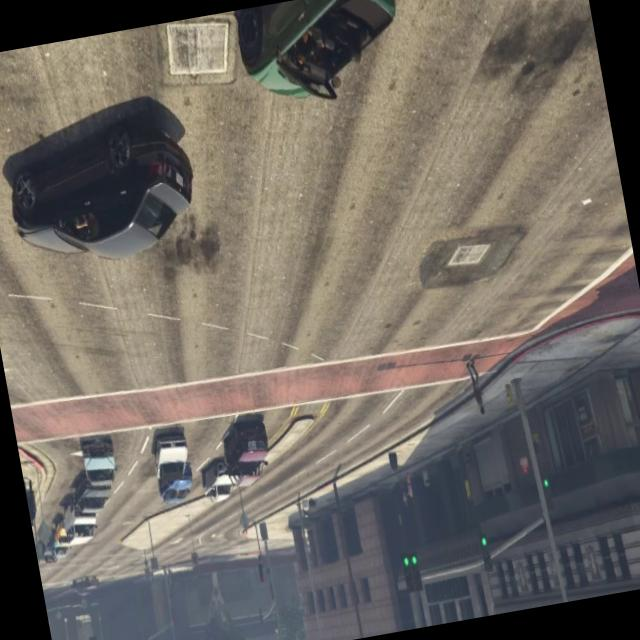Green-Signal: (394, 538, 429, 600), (472, 520, 500, 580), (537, 466, 559, 514)
